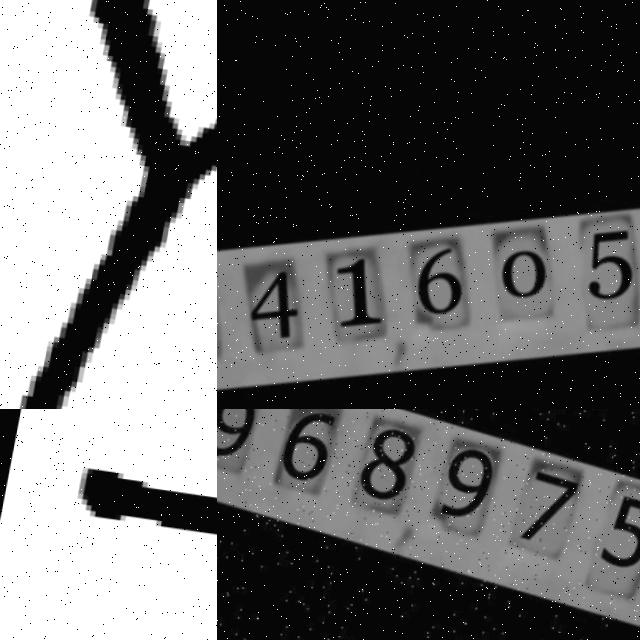0: (480, 218, 568, 322)
1: (315, 238, 403, 341)
2: (217, 263, 236, 361)
4: (232, 250, 322, 357)
5: (565, 204, 640, 318), (577, 465, 640, 588)
6: (257, 409, 362, 503), (394, 225, 485, 331)
7: (498, 446, 600, 560)
8: (338, 409, 440, 516)
9: (416, 422, 520, 538), (217, 409, 280, 474)
T: (0, 439, 217, 640)
Y: (0, 0, 217, 409)
